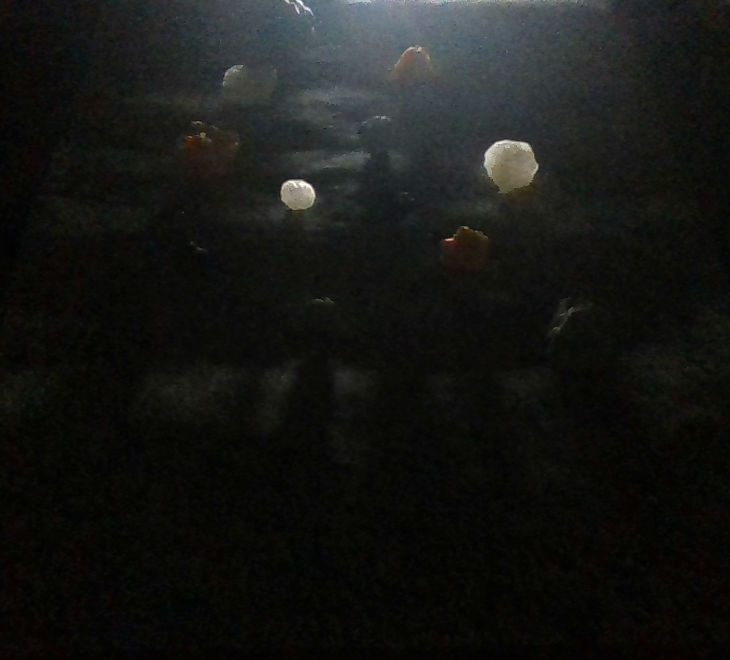anorthosite: (485, 141, 538, 192), (222, 64, 277, 107), (281, 181, 315, 210)
basalt: (260, 0, 313, 49), (378, 187, 415, 219), (172, 240, 208, 271)
metal: (175, 120, 239, 178), (440, 226, 489, 271), (394, 45, 433, 84)
regolith: (547, 297, 618, 371), (359, 117, 396, 154), (303, 298, 339, 332)
